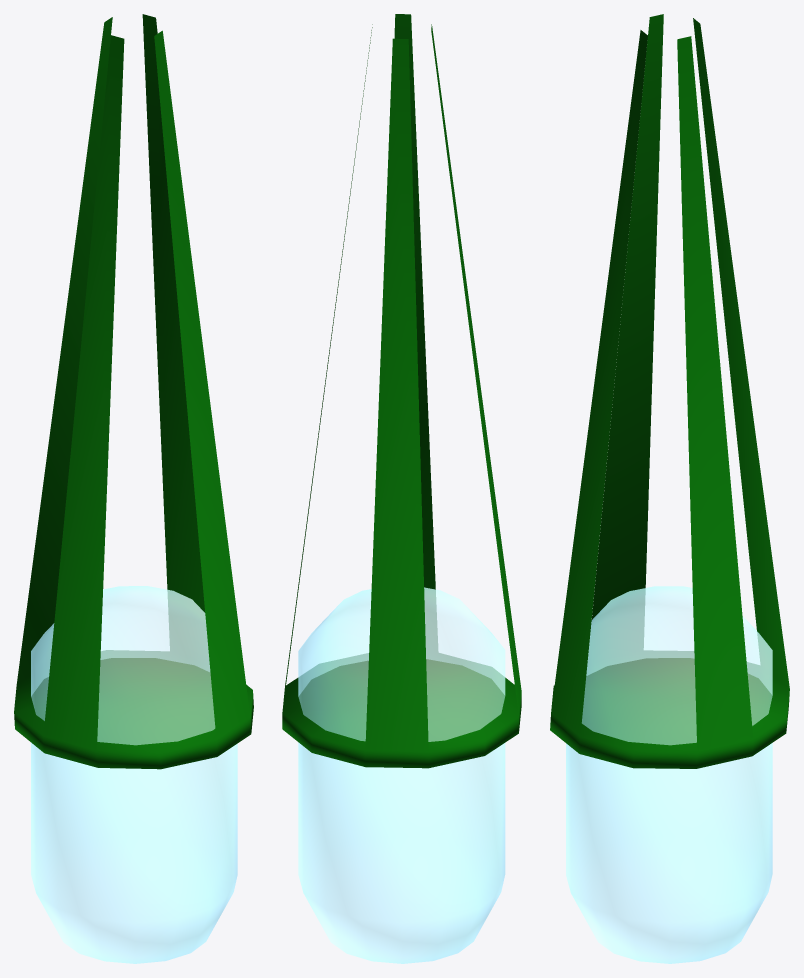
The model's file is Ga-KoroLight.fbx.
3 renders of one model, left to right at view 1: azimuth 30°, elevation 25°; view 2: azimuth 150°, elevation 25°; view 3: azimuth 270°, elevation 25°, orthographic.
Visible parts, largest first — view 1: Cylinder_011, Cylinder_012; view 2: Cylinder_012, Cylinder_011; view 3: Cylinder_011, Cylinder_012.
Part boxes in pixels (<box>): Cylinder_011: <box>14,14,253,769</box>; Cylinder_012: <box>31,586,237,963</box>; Cylinder_012: <box>298,587,505,963</box>; Cylinder_011: <box>282,14,521,768</box>; Cylinder_011: <box>550,14,789,768</box>; Cylinder_012: <box>566,586,772,963</box>.
Bounding box in the file's own units: 0.0403 × 0.1728 × 0.0404.
